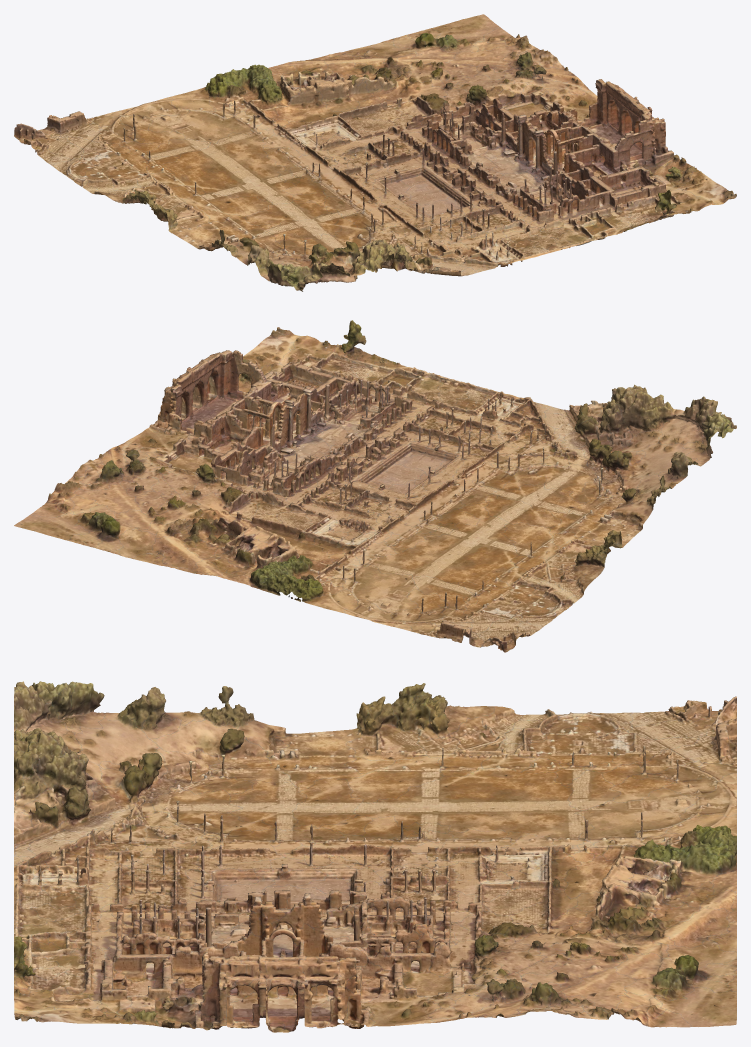
3 views of the same model, one above another, from view 1: azimuth 30°, elevation 25°; view 2: azimuth 150°, elevation 25°; view 3: azimuth 270°, elevation 25° (orthographic). The views are drawn at different scales.
Parts seen in each view (by area): view 1: LBY_002_M11_Baths; view 2: LBY_002_M11_Baths; view 3: LBY_002_M11_Baths.
Part boxes in pixels (bbox=[...]): LBY_002_M11_Baths: bbox=[14, 14, 736, 291]; LBY_002_M11_Baths: bbox=[14, 320, 736, 652]; LBY_002_M11_Baths: bbox=[14, 681, 736, 1032].
Bounding box in the file's own units: 150 × 16.69 × 141.
1 material, 1 textured.
